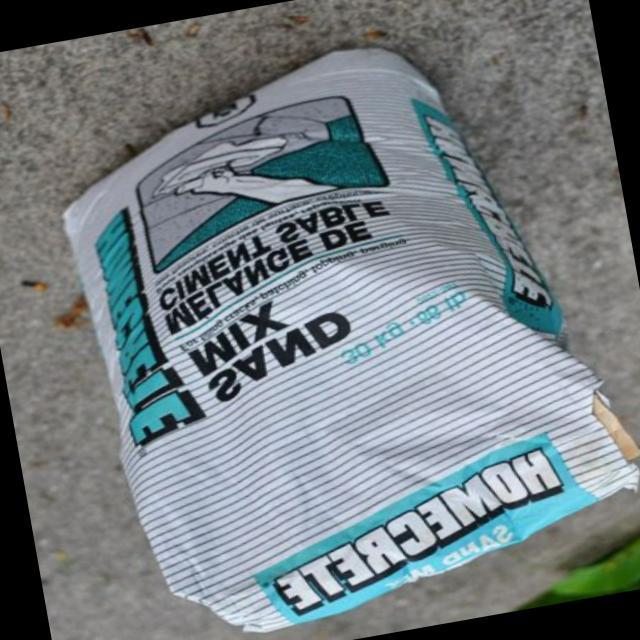KantongSemen: (37, 8, 640, 640)
